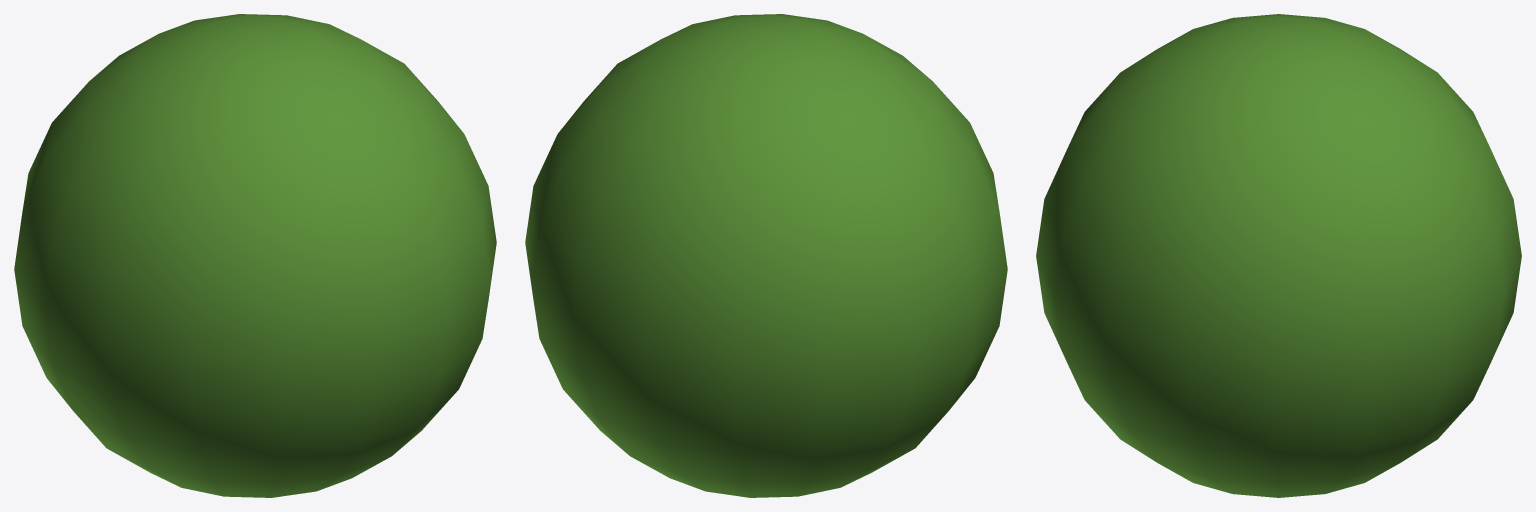
File: Peas.fbx
3 views of the same model, side by side, from view 1: azimuth 30°, elevation 25°; view 2: azimuth 150°, elevation 25°; view 3: azimuth 270°, elevation 25° (orthographic).
Parts seen in each view (by area): view 1: Peas; view 2: Peas; view 3: Peas.
Part boxes in pixels (box(x1,y1,x2,y2)): Peas: box(14, 14, 496, 497); Peas: box(525, 14, 1007, 497); Peas: box(1036, 14, 1521, 497).
Size of the model in its own units: 0.0508 by 0.0508 by 0.0508.
